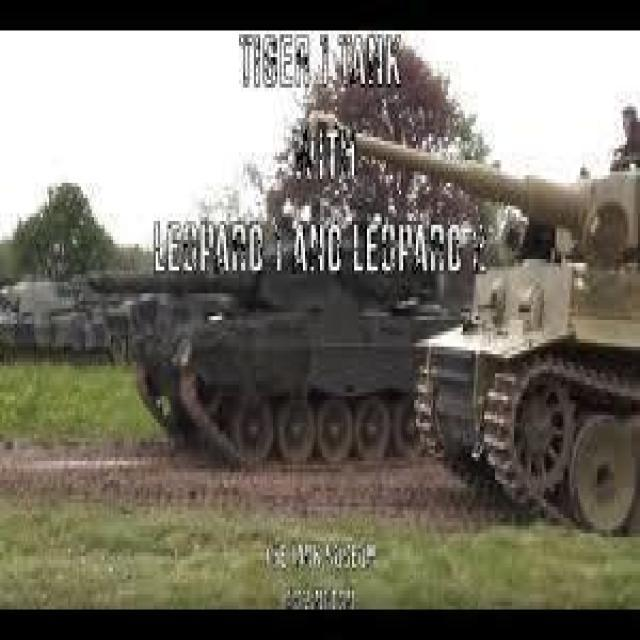MIL_MBT: (366, 34, 622, 560), (124, 112, 433, 528)
